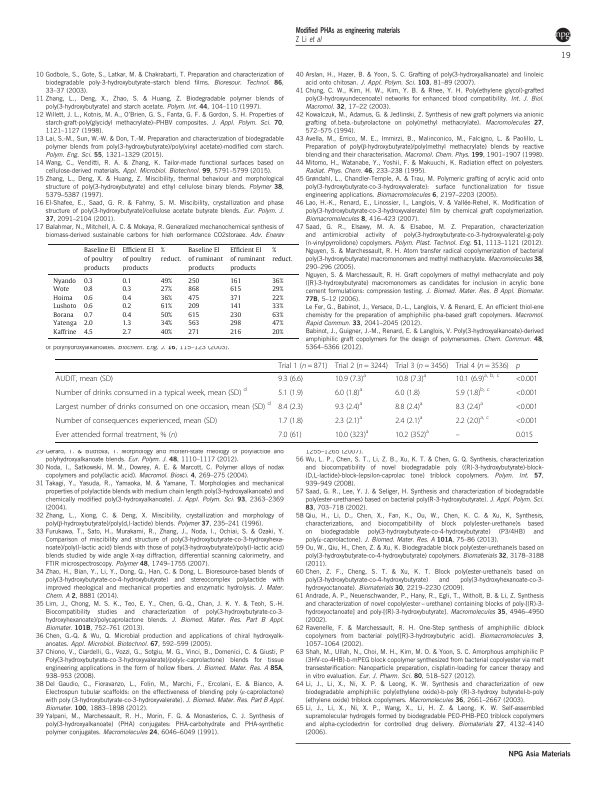borderless: (54, 357, 538, 442), (47, 242, 299, 338)
cell: (55, 400, 272, 412), (55, 386, 248, 398), (55, 416, 218, 426), (55, 430, 178, 440), (187, 247, 224, 272), (229, 247, 266, 272), (83, 247, 116, 272), (122, 247, 155, 272), (55, 374, 114, 384), (455, 372, 500, 384), (334, 361, 389, 370), (394, 361, 449, 370), (455, 361, 510, 370), (277, 361, 328, 370), (394, 428, 430, 440), (455, 386, 490, 398), (455, 414, 490, 426), (334, 428, 369, 440), (334, 372, 367, 384), (394, 372, 427, 384), (271, 247, 294, 263), (160, 247, 182, 263), (334, 386, 363, 398), (334, 400, 363, 412), (394, 400, 423, 412), (455, 400, 484, 412), (334, 414, 363, 426), (394, 414, 423, 426), (277, 374, 304, 384), (277, 388, 304, 398), (394, 388, 421, 398), (277, 402, 304, 412), (277, 416, 304, 426), (277, 430, 302, 440), (52, 328, 78, 337), (515, 374, 538, 384), (515, 388, 538, 398), (515, 402, 538, 412), (515, 416, 538, 426), (52, 302, 77, 311), (52, 320, 78, 328), (52, 277, 77, 285), (515, 430, 534, 440), (52, 311, 75, 319), (52, 294, 74, 302), (52, 285, 70, 294), (160, 285, 173, 294), (187, 285, 200, 294), (229, 285, 242, 294), (271, 285, 284, 294), (160, 302, 173, 311), (187, 302, 200, 311), (229, 302, 242, 311), (271, 302, 284, 311), (160, 328, 173, 337), (187, 328, 200, 337), (229, 328, 242, 337), (271, 328, 284, 337), (160, 277, 173, 285), (187, 277, 200, 285), (229, 277, 242, 285), (271, 277, 284, 285), (160, 294, 173, 302), (187, 294, 200, 302), (229, 294, 242, 302), (271, 294, 284, 302), (160, 311, 173, 319), (187, 311, 200, 319), (229, 311, 242, 319), (271, 311, 284, 319), (160, 320, 173, 328), (187, 320, 200, 328), (229, 320, 242, 328), (271, 320, 284, 328), (83, 285, 94, 294), (83, 302, 94, 311), (83, 328, 94, 337), (122, 285, 132, 294), (122, 302, 132, 311), (122, 328, 132, 337), (83, 277, 94, 285), (83, 294, 94, 302), (83, 311, 94, 319), (83, 320, 94, 328), (122, 277, 132, 285), (122, 294, 132, 302), (122, 311, 132, 319), (122, 320, 132, 328), (515, 363, 521, 370), (455, 434, 461, 438)
